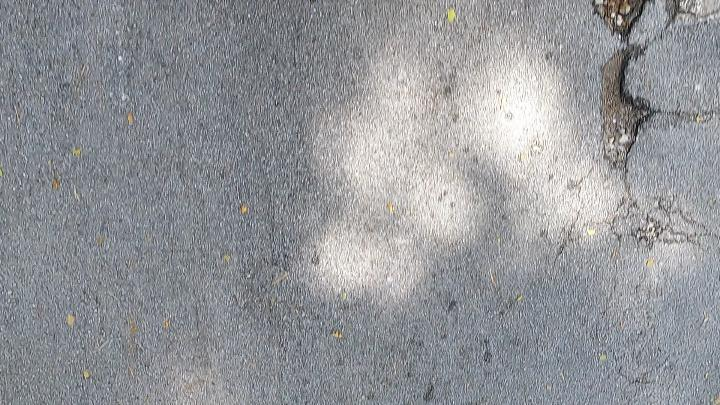Crack: (610, 198, 720, 247), (612, 199, 719, 244)
Pothole: (587, 0, 720, 172), (593, 0, 719, 169)
